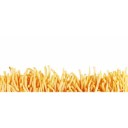frenchfries: (1, 66, 127, 91)
